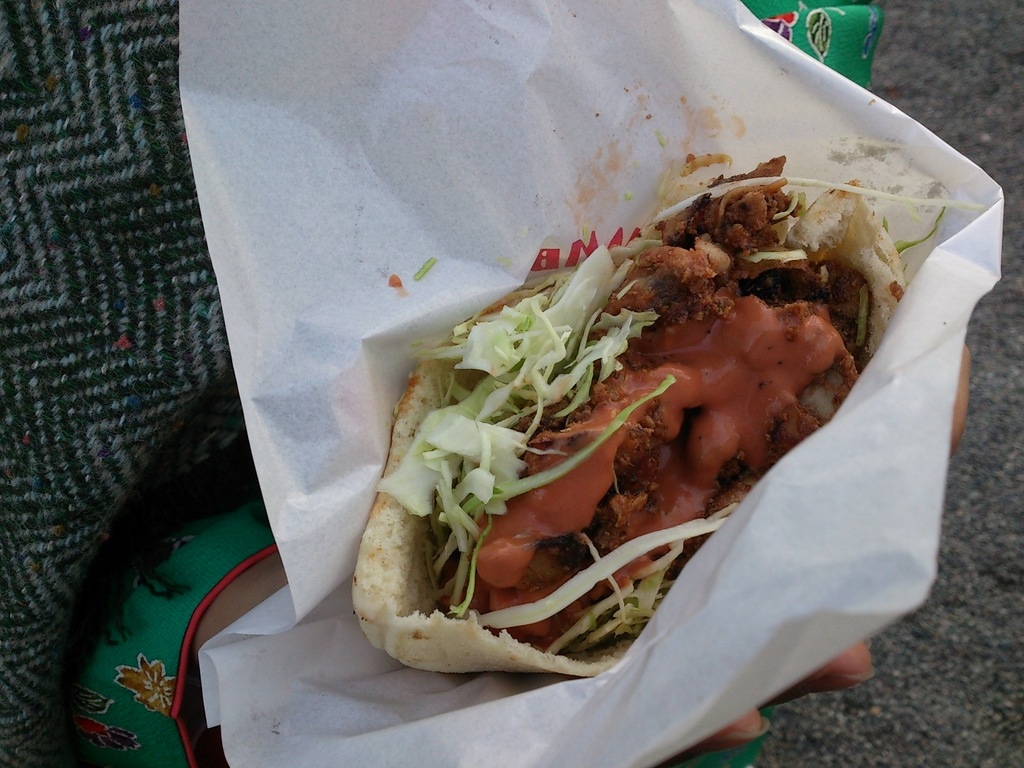taco: (363, 173, 963, 691)
